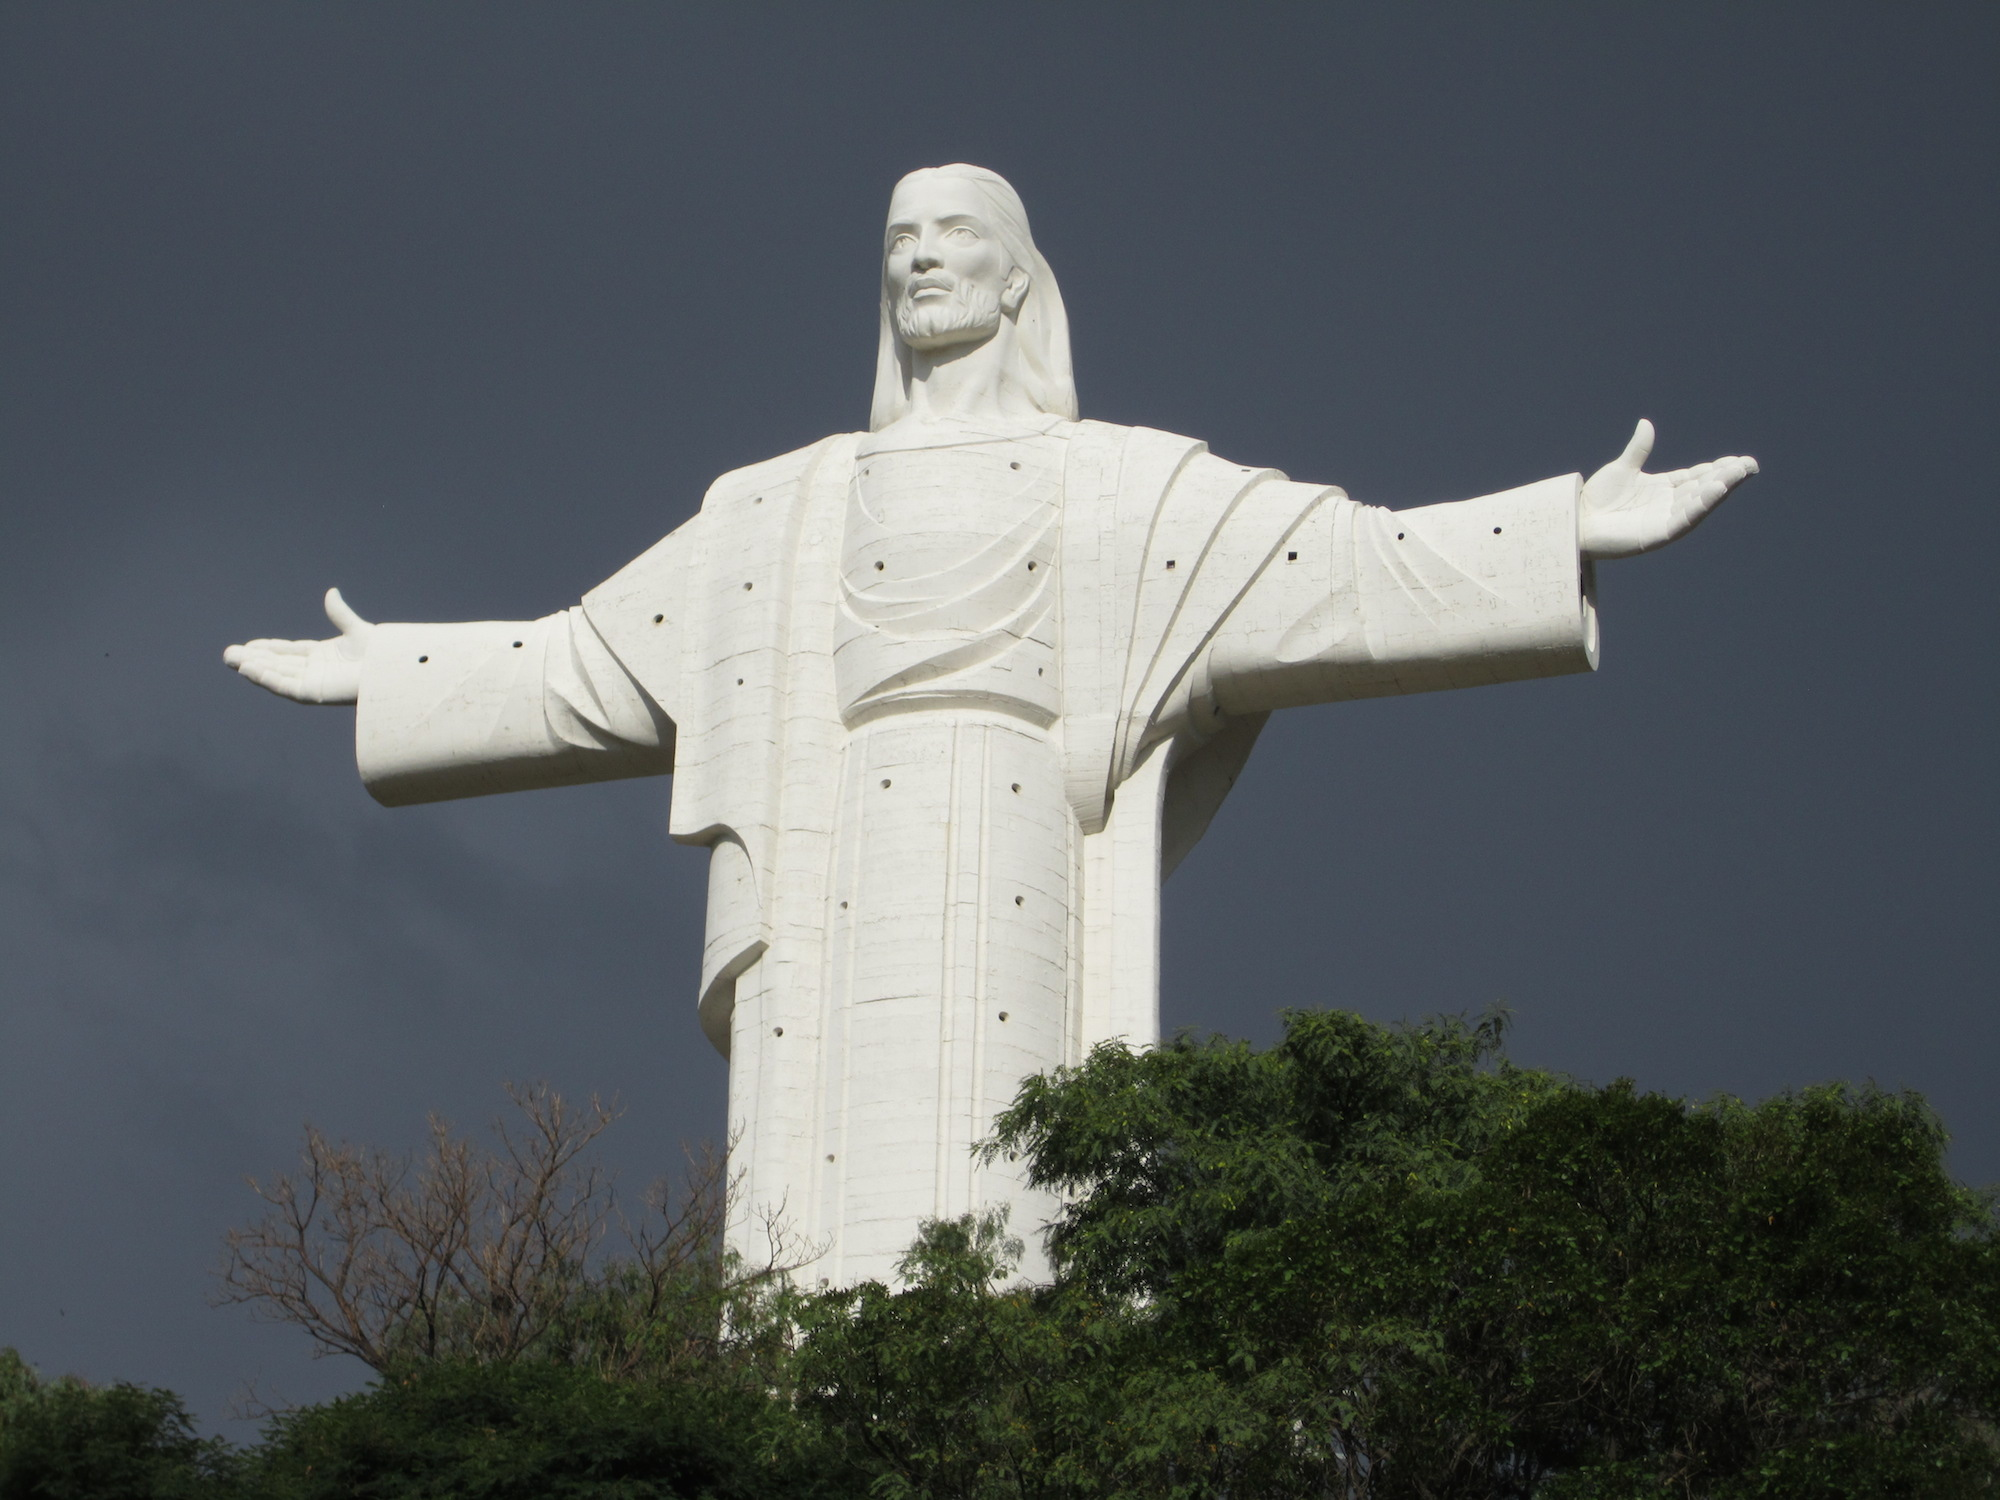person-like: (211, 152, 1769, 1378)
